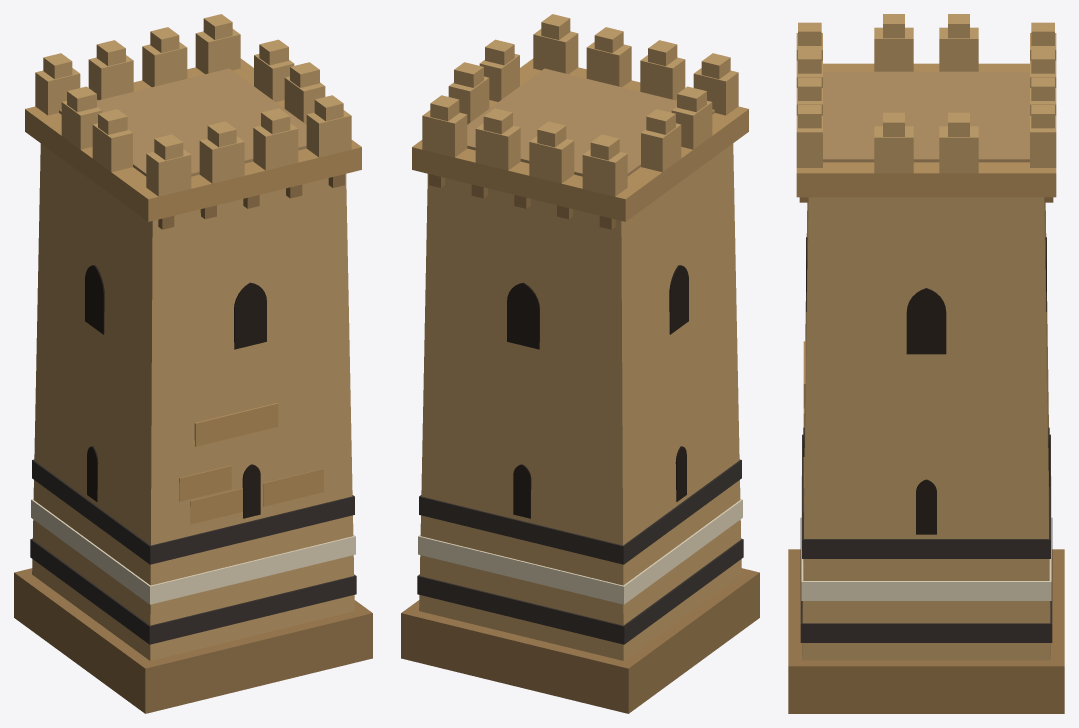
Rendered from desert_tower.glb.
The picture shows the model from 3 angles, left to right: view 1: azimuth 30°, elevation 25°; view 2: azimuth 150°, elevation 25°; view 3: azimuth 270°, elevation 25°; orthographic projection. The views are drawn at different scales.
Parts seen in each view (by area): view 1: desert_tower; view 2: desert_tower; view 3: desert_tower.
Boxes of the visible parts, box(x1,y1,x2,y2) form: desert_tower: box(14, 14, 372, 713); desert_tower: box(401, 14, 759, 713); desert_tower: box(788, 14, 1064, 713).
Bounding box in the file's own units: 4.2 × 9.84 × 4.2.
